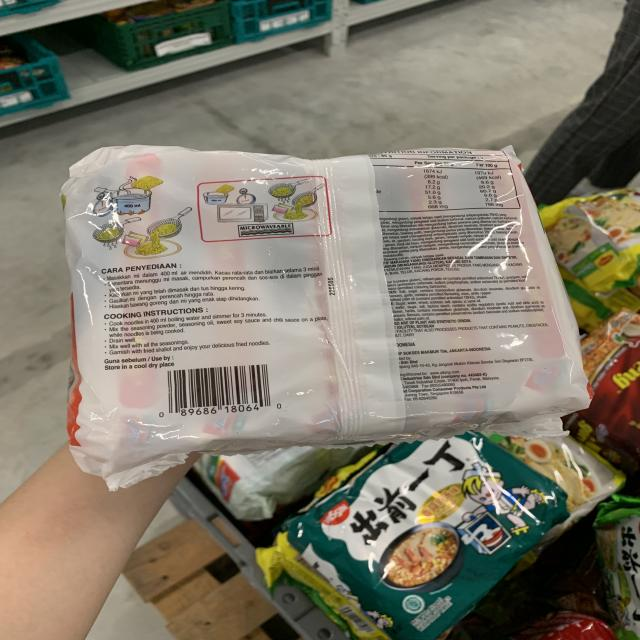object_name: (71, 155, 564, 430)
